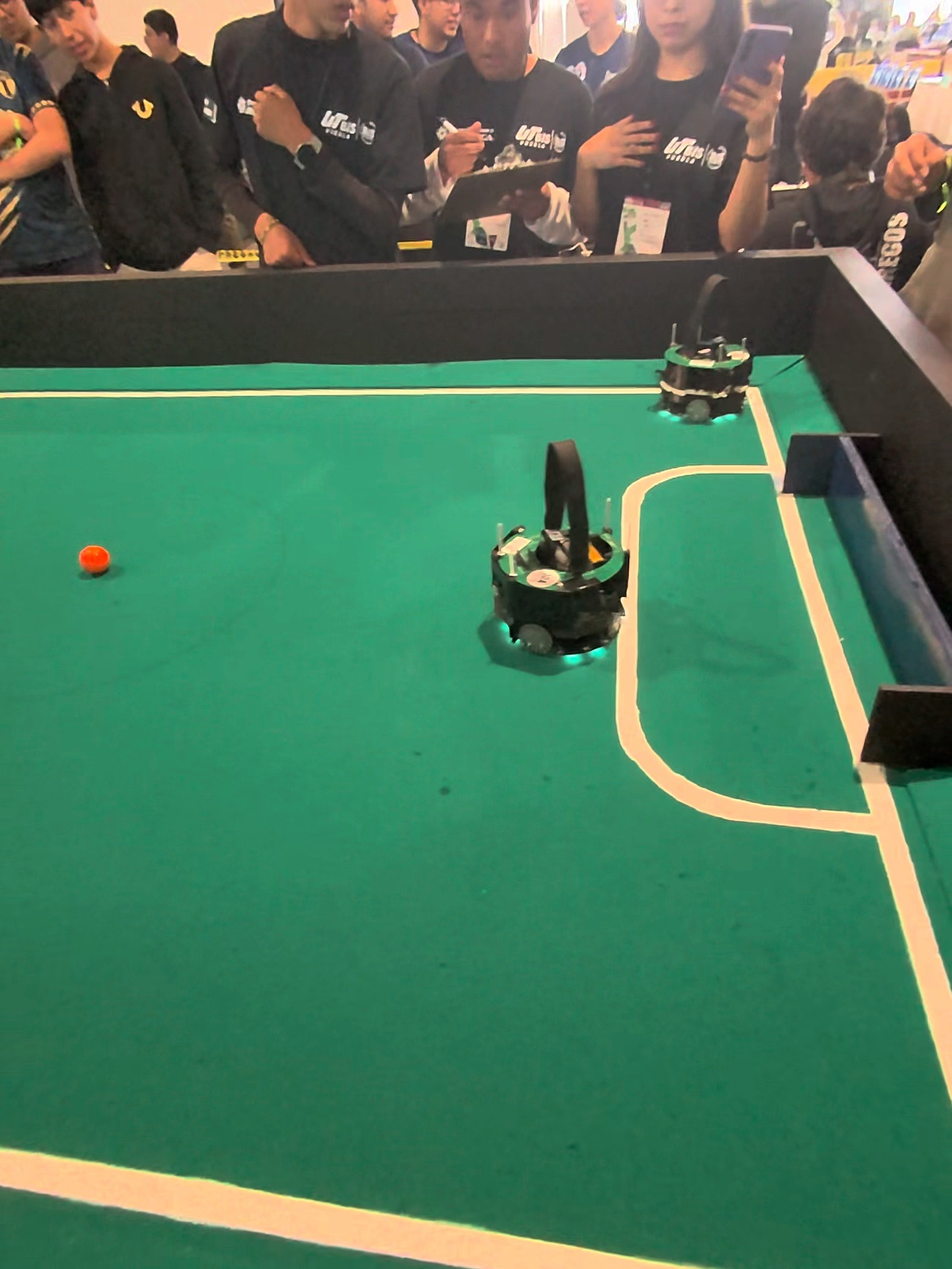Robot: (481, 428, 624, 689), (650, 277, 758, 439)
pelota: (69, 545, 120, 586)
